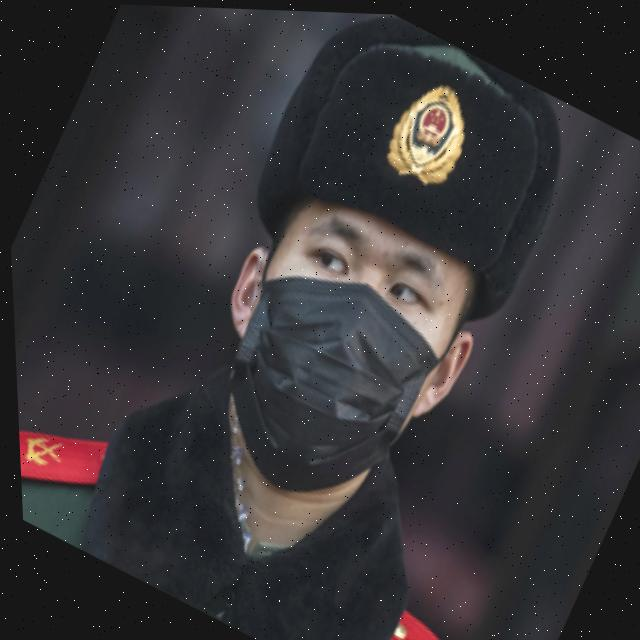Mask: (157, 214, 485, 543)
